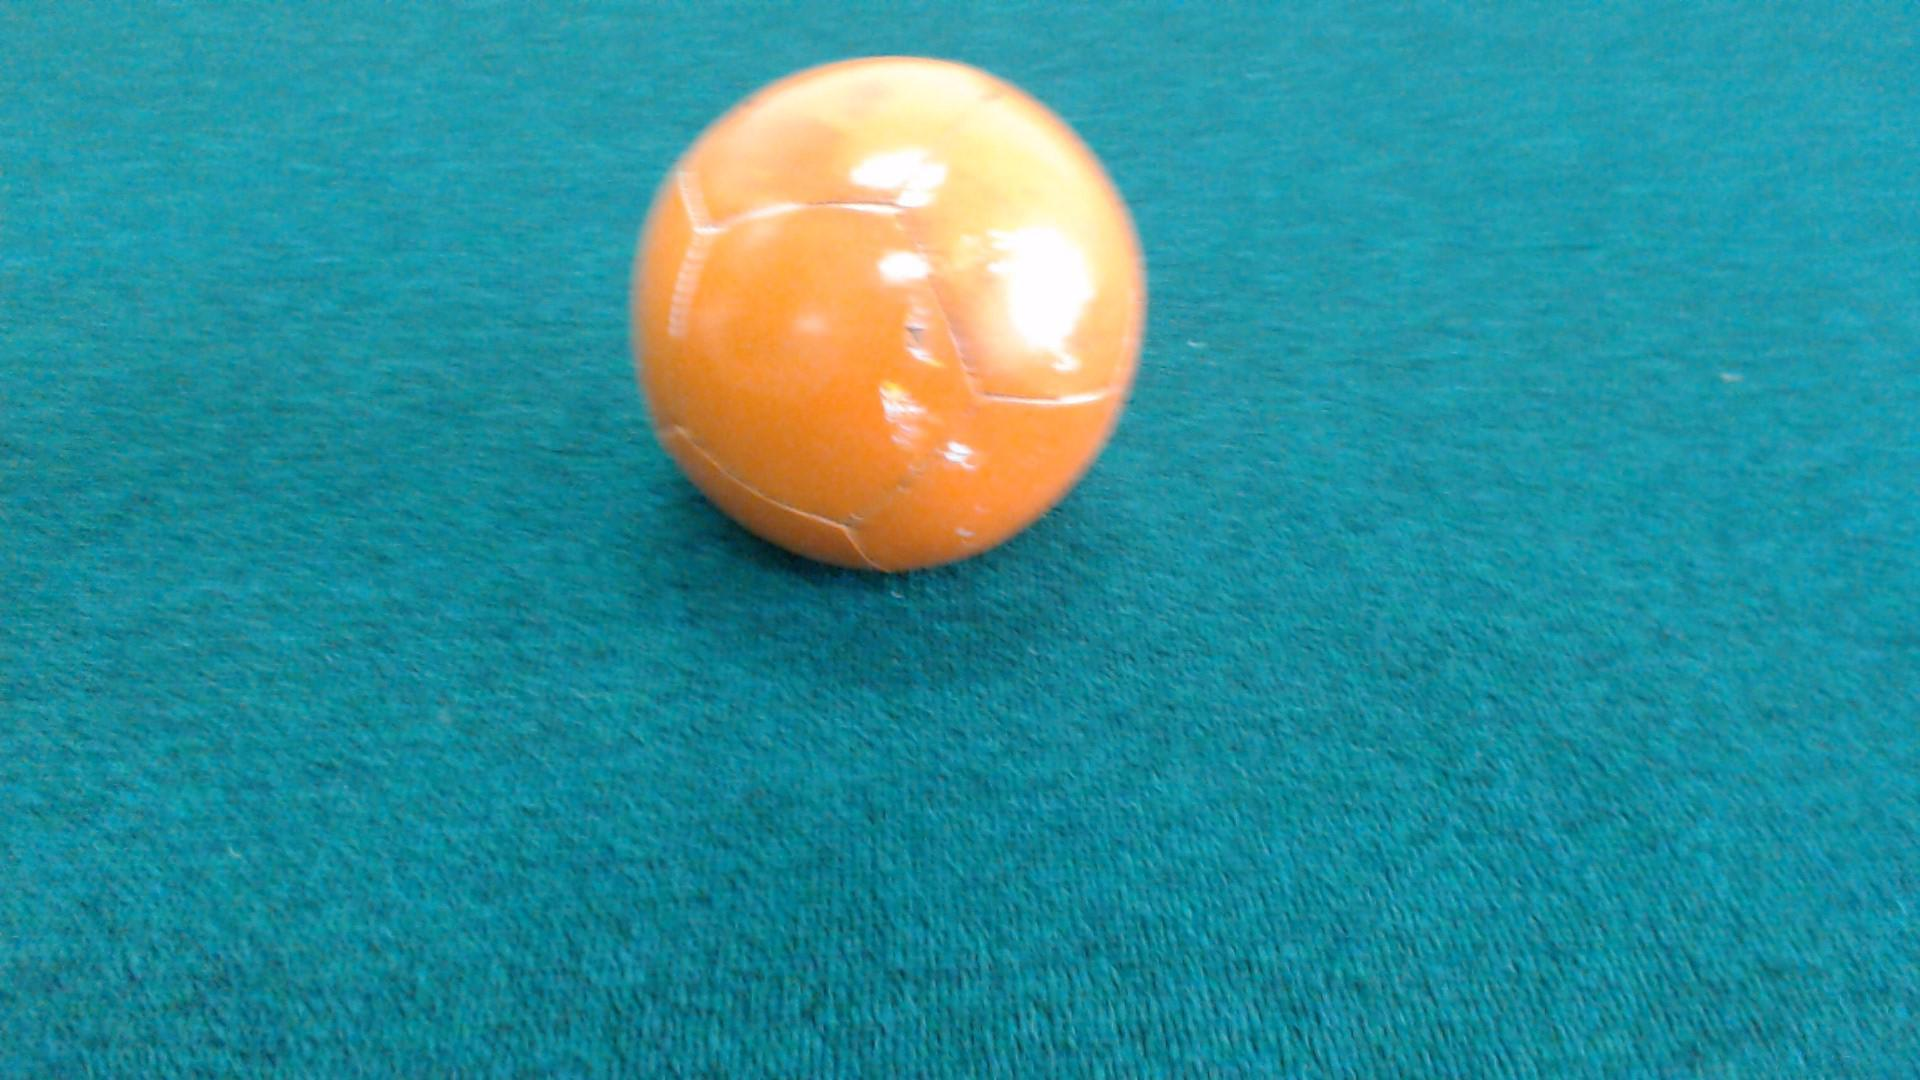bola: (604, 61, 1151, 591)
